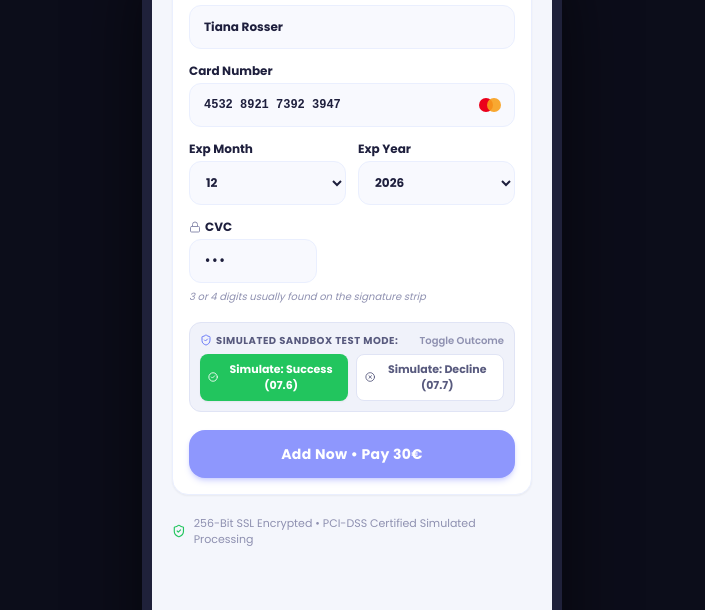
Test: Enigame Payment Gateway & Checkout Flow (07.4, 07.6, 07.7) › simulates payment failure and allows Review Payment to return to 07.4
This screenshot has width=705, height=610.
(page scrolled)
// Switch simulation mode to failure
Click the button "Simulate: Decline (07.7)" at (430, 377), box 356,354 -> 504,401
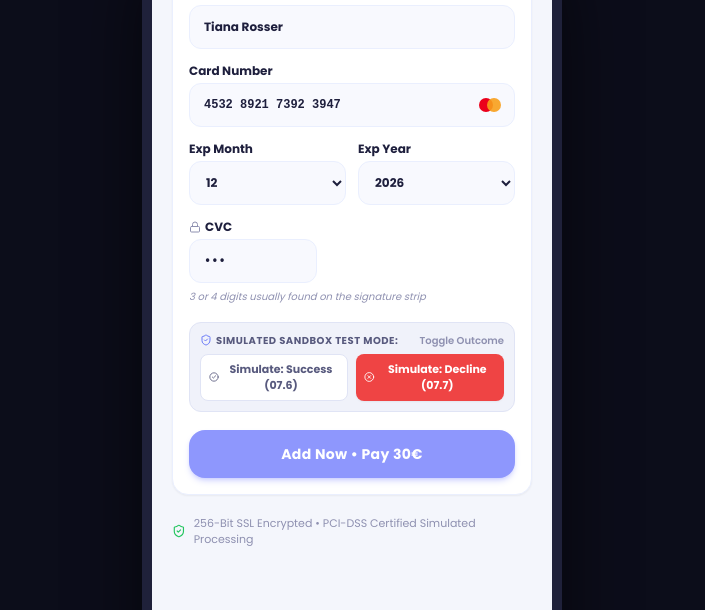
// Submit payment
Click the button "Add Now • Pay 30€" at (352, 454), box 189,430 -> 515,478
(page scrolled)
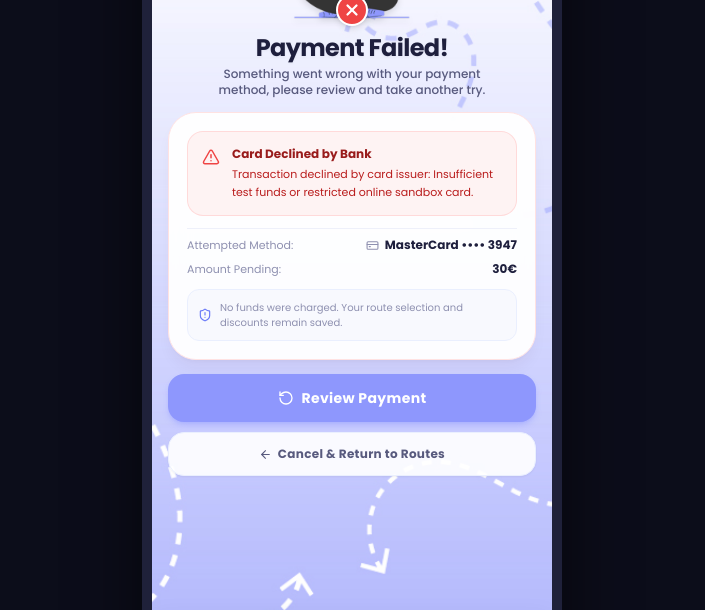
Result: the heading "Payment Failed!" is shown at 256,32 -> 448,64
Result: the heading "Card Declined by Bank" is shown at 232,145 -> 372,162
// Click Review Payment to retry
Click the button "Review Payment" at (352, 398), box 168,374 -> 536,422
(page scrolled)
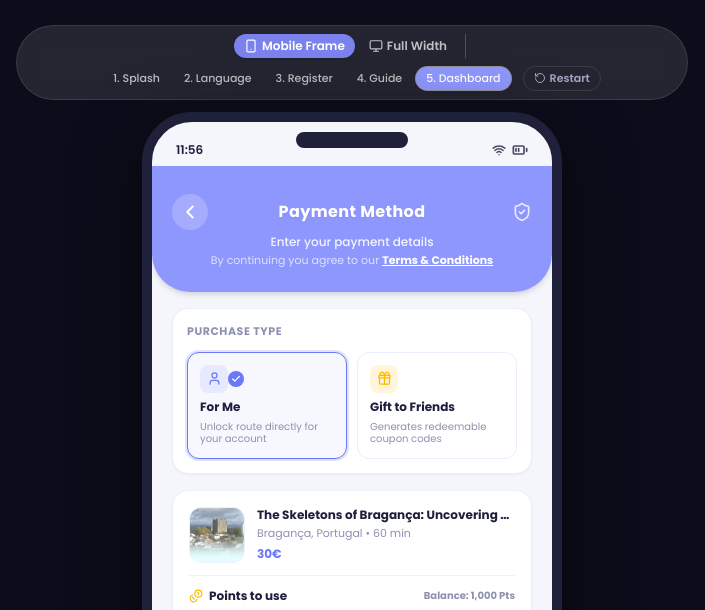
Result: the heading "Payment Method" is shown at 278,200 -> 425,224
Result: the text "Enter your payment details" is shown at 270,233 -> 434,250
